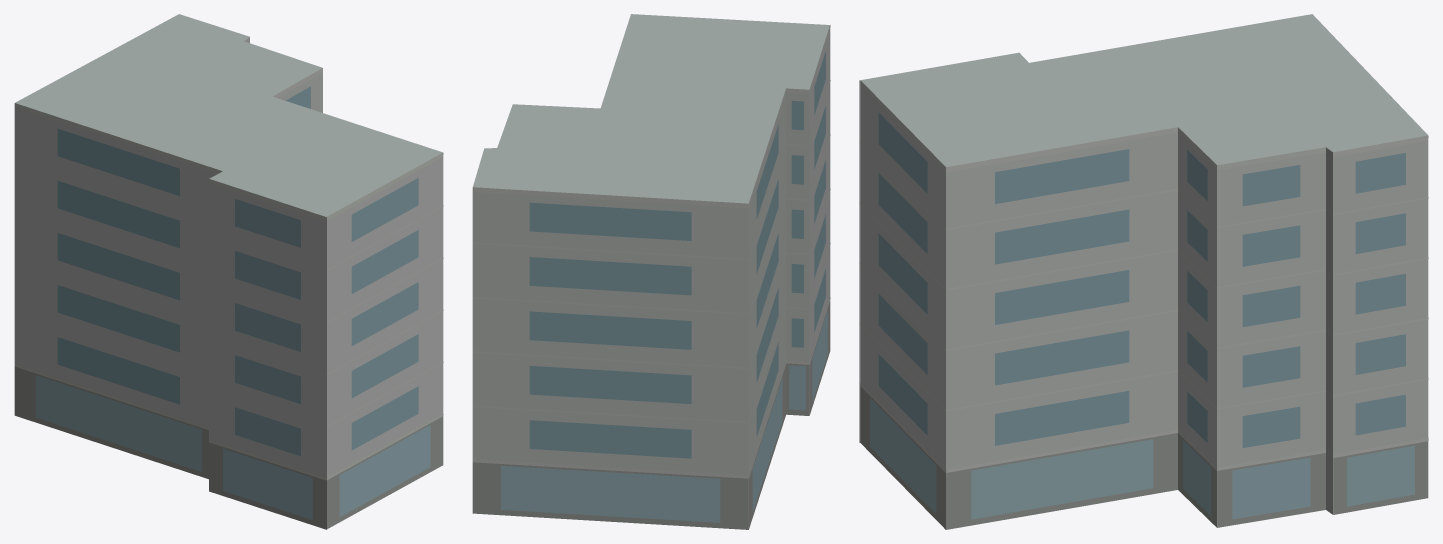
Rendered from survey-upis-32587658.glb.
3 renders of one model, left to right at view 1: azimuth 30°, elevation 25°; view 2: azimuth 150°, elevation 25°; view 3: azimuth 270°, elevation 25°, orthographic. The views are drawn at different scales.
Visible parts, largest first — view 1: survey-upis-32587658.tmp; view 2: survey-upis-32587658.tmp; view 3: survey-upis-32587658.tmp.
Boxes of the visible parts, x1,y1,x2,y2 form: survey-upis-32587658.tmp: (14, 14, 443, 529); survey-upis-32587658.tmp: (472, 14, 830, 529); survey-upis-32587658.tmp: (859, 14, 1428, 529).
Bounding box in the file's own units: 15.38 × 16.95 × 24.12.
